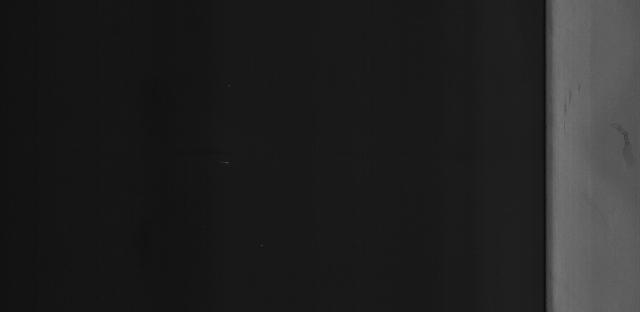water_spot: (605, 111, 640, 172)
